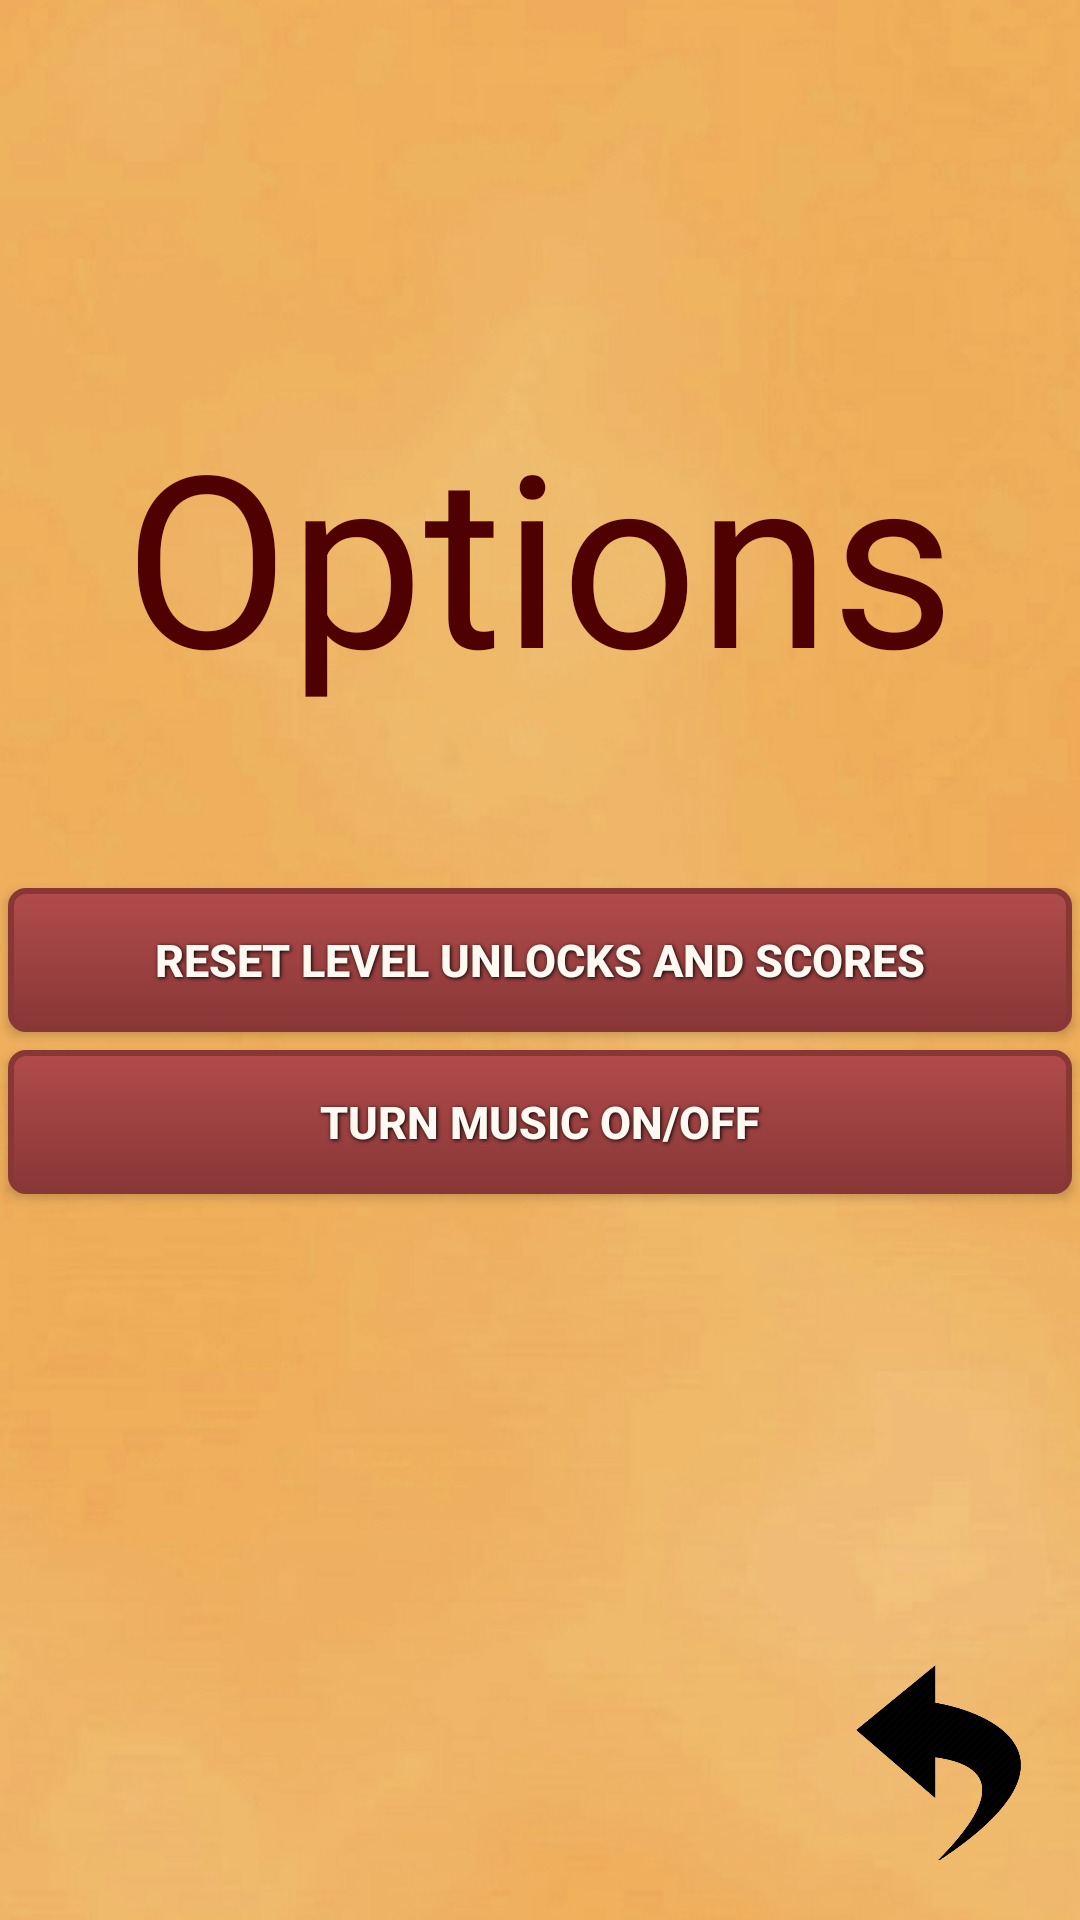

Locate icon controls on the screen. Image size 1080x1920, boxes as (x1, y1, x2, y2).
undo: (857, 1665, 1021, 1860)
